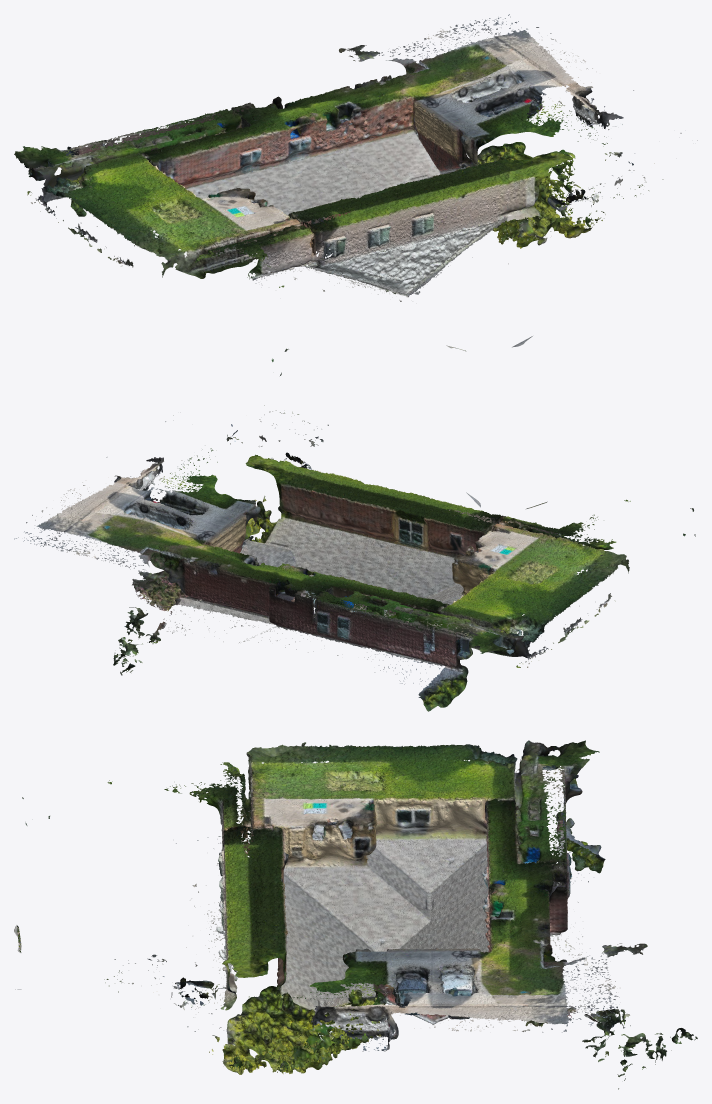
File: site_model-draco.glb
3 renders of one model, top to bottom at view 1: azimuth 30°, elevation 25°; view 2: azimuth 150°, elevation 25°; view 3: azimuth 270°, elevation 25°, orthographic. The views are drawn at different scales.
Parts seen in each view (by area): view 1: site-model; view 2: site-model; view 3: site-model.
Boxes of the visible parts, x1=… form: site-model: x1=14, y1=14, x2=697, y2=375; site-model: x1=14, y1=405, x2=695, y2=711; site-model: x1=14, y1=740, x2=697, y2=1089.
Bounding box in the file's own units: 37.39 × 7.87 × 35.46.
1 material, 1 textured.
